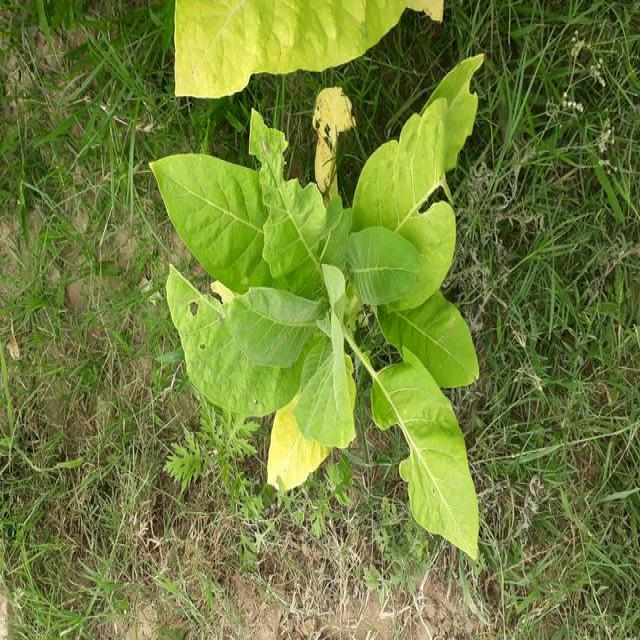crop: (159, 54, 482, 560)
